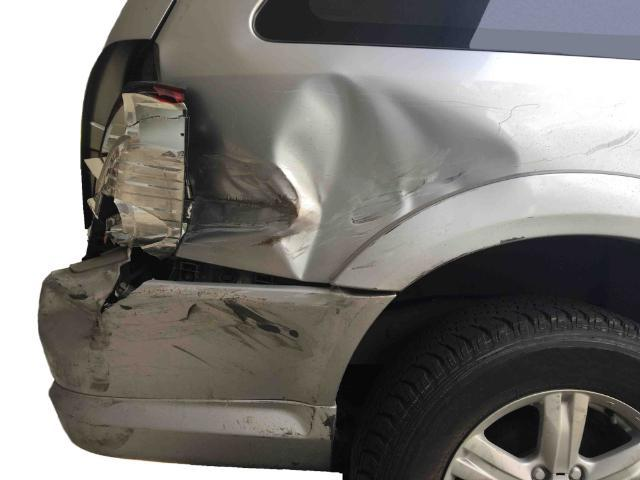crack: (101, 258, 153, 315)
dent: (183, 73, 517, 281), (38, 275, 108, 351)
lamp broken: (87, 84, 189, 254)
scratch: (121, 284, 314, 374), (53, 356, 136, 450)
